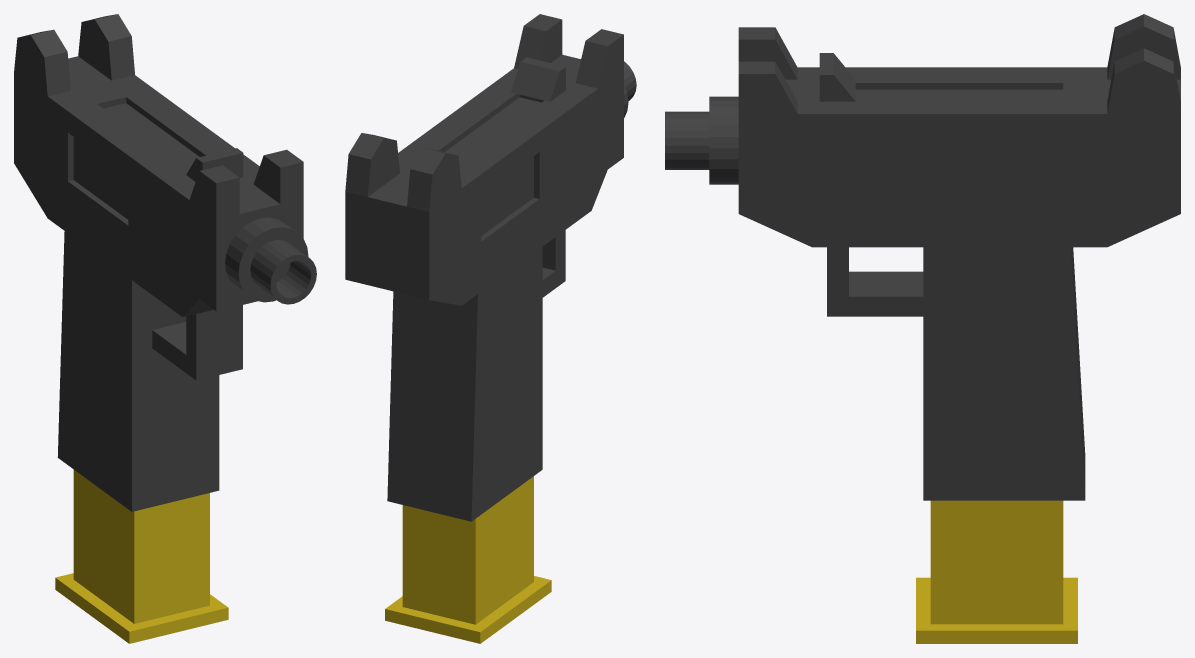
The model's file is uzigold.glb.
3 renders of one model, left to right at view 1: azimuth 30°, elevation 25°; view 2: azimuth 150°, elevation 25°; view 3: azimuth 270°, elevation 25°, orthographic. The views are drawn at different scales.
Visible parts, largest first — view 1: Mesh3 Group4 Group1 Model, Mesh1 Group2 Group1 Model, Mesh2 Group3 Group1 Model; view 2: Mesh3 Group4 Group1 Model, Mesh1 Group2 Group1 Model, Mesh2 Group3 Group1 Model; view 3: Mesh3 Group4 Group1 Model, Mesh1 Group2 Group1 Model, Mesh2 Group3 Group1 Model.
Part boxes in pixels (x1=…): Mesh3 Group4 Group1 Model: x1=14, y1=14, x2=316, y2=511; Mesh1 Group2 Group1 Model: x1=55, y1=470, x2=228, y2=643; Mesh2 Group3 Group1 Model: x1=186, y1=148, x2=243, y2=181; Mesh3 Group4 Group1 Model: x1=345, y1=14, x2=636, y2=521; Mesh1 Group2 Group1 Model: x1=385, y1=476, x2=551, y2=643; Mesh2 Group3 Group1 Model: x1=511, y1=57, x2=565, y2=102; Mesh3 Group4 Group1 Model: x1=665, y1=14, x2=1180, y2=500; Mesh1 Group2 Group1 Model: x1=916, y1=500, x2=1077, y2=643; Mesh2 Group3 Group1 Model: x1=819, y1=53, x2=855, y2=101.
Size of the model in its own units: 0.0102 by 0.0522 by 0.0421.
